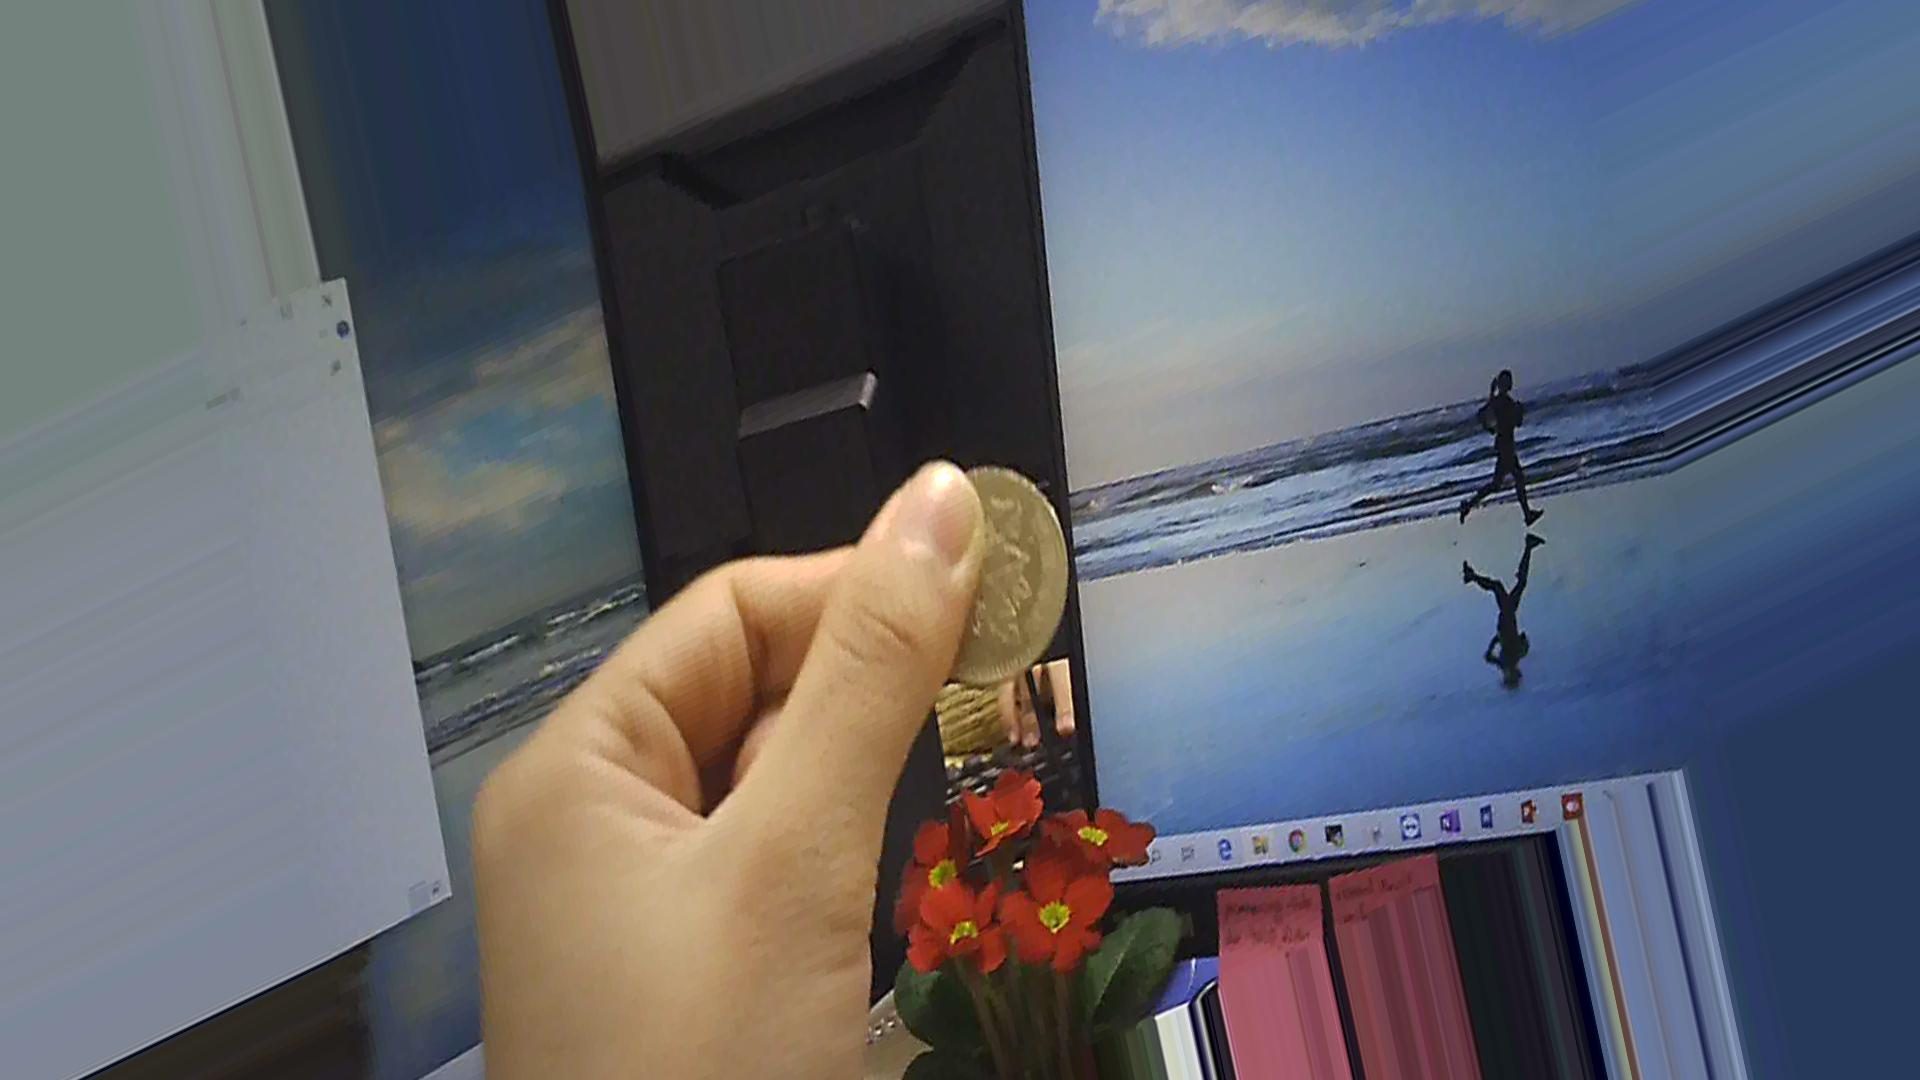500 Yen: (913, 465, 1077, 679)
